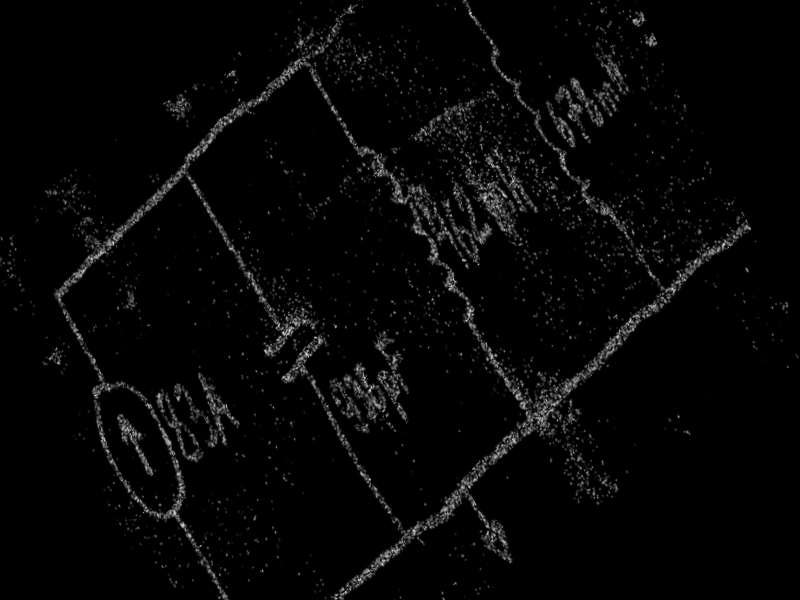2: (444, 172, 499, 253)
3: (169, 373, 224, 458), (339, 362, 383, 431)
4: (415, 191, 474, 283)
6: (431, 186, 490, 276), (539, 92, 583, 158)
7: (548, 75, 603, 156)
8: (149, 380, 208, 473), (564, 67, 610, 138), (348, 351, 394, 421)
9: (321, 367, 375, 450)
A: (185, 357, 246, 447)
F: (371, 325, 421, 401)
H: (483, 139, 542, 228), (590, 38, 635, 106)
m: (473, 172, 524, 238), (588, 73, 629, 126)
p: (373, 361, 420, 432)
